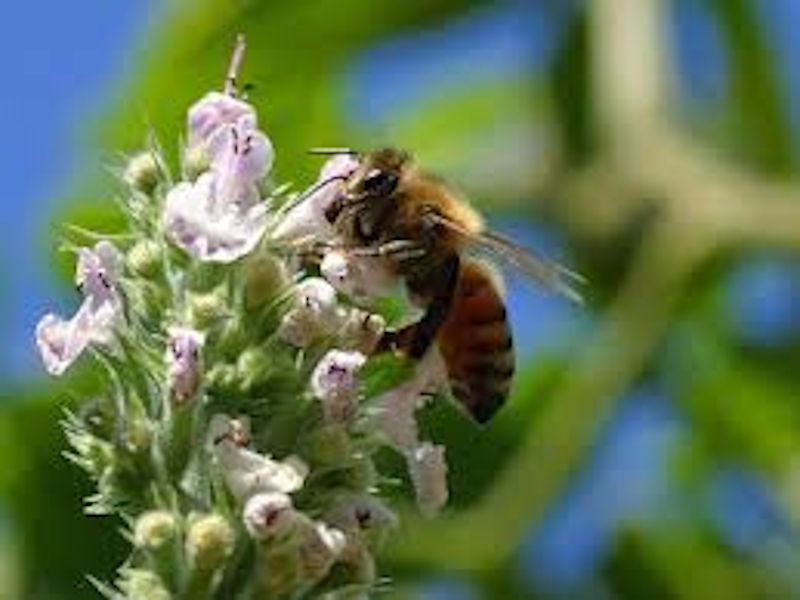abeja: (278, 119, 585, 463)
